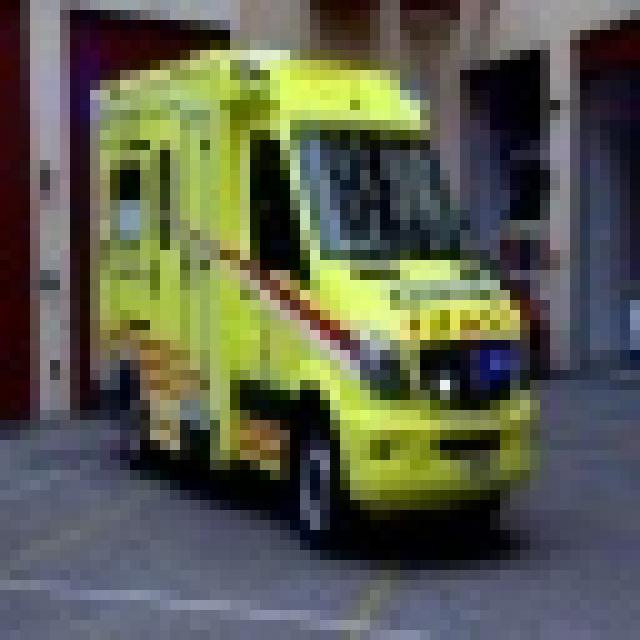Ambulance: (80, 40, 540, 540)
